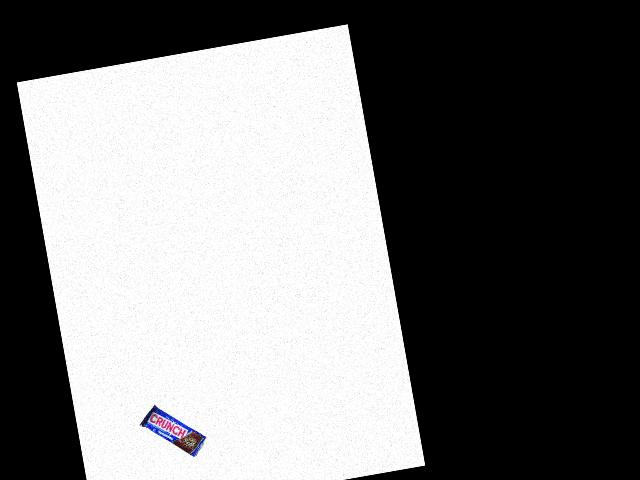chocolate: (135, 396, 211, 466)
